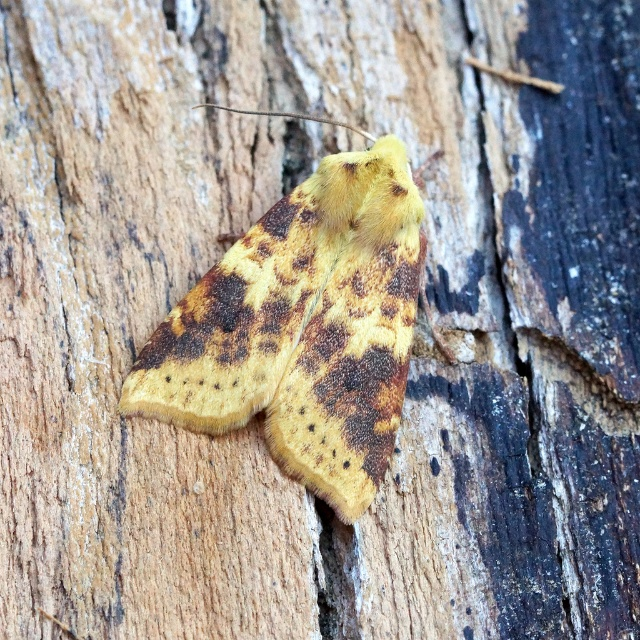Moths and butterflies: (113, 99, 462, 525)
